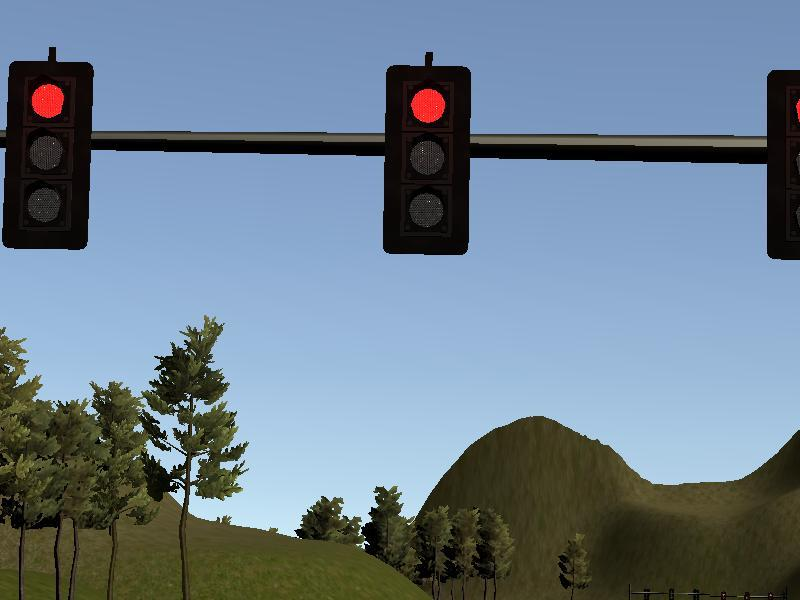Red: (388, 70, 468, 248), (11, 62, 85, 243), (771, 74, 800, 259)
